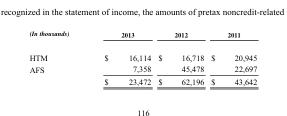table: (28, 28, 256, 85)
table column: (86, 28, 153, 85), (28, 28, 86, 85), (153, 28, 206, 85), (206, 28, 256, 85)
table column header: (28, 28, 256, 45)
table row: (28, 28, 256, 45), (28, 45, 256, 62), (28, 62, 256, 74), (28, 74, 256, 85)
